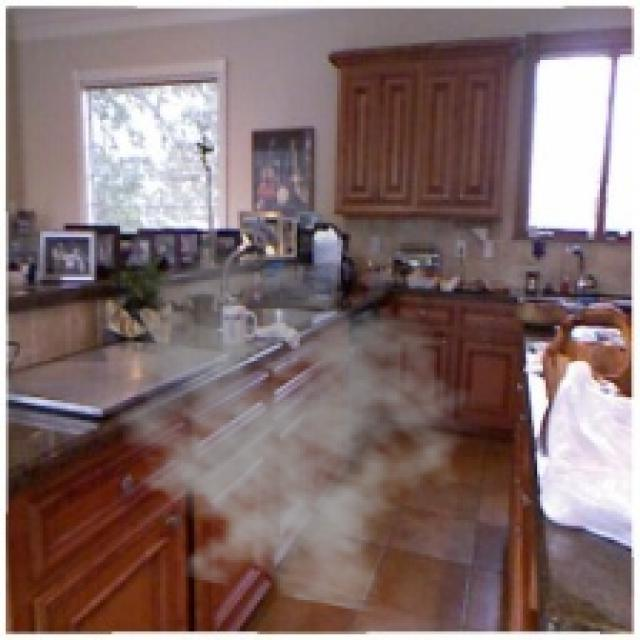smoke: (77, 237, 480, 614)
